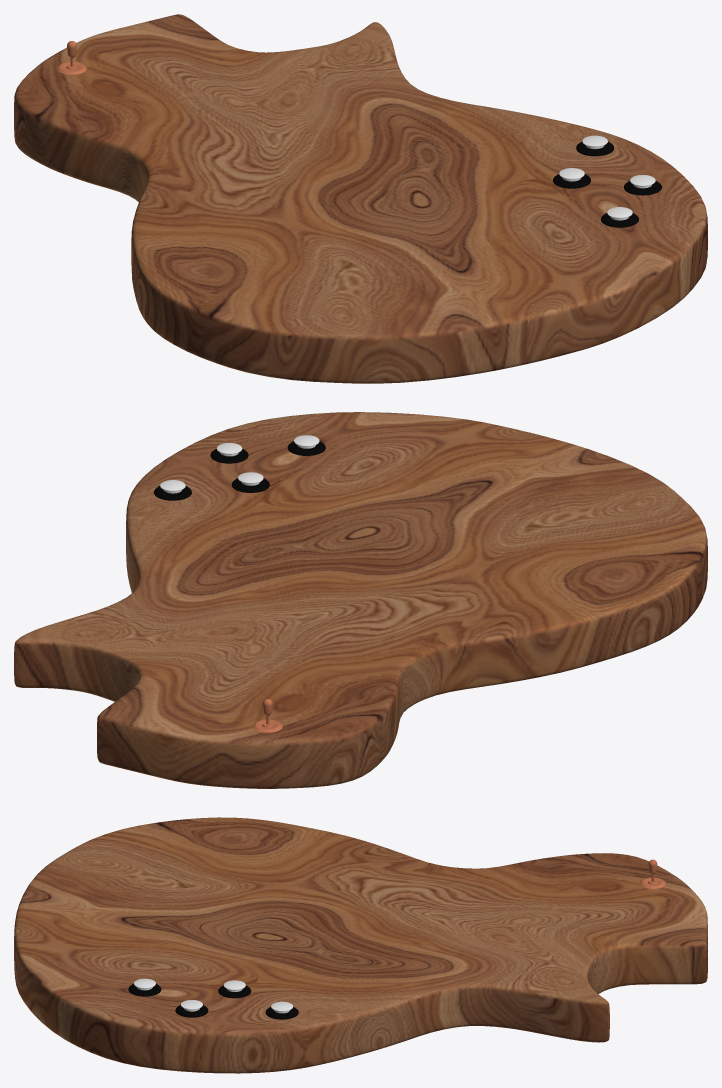
File: SingleCut_Madera.glb
The picture shows the model from 3 angles, top to bottom: view 1: azimuth 30°, elevation 25°; view 2: azimuth 150°, elevation 25°; view 3: azimuth 270°, elevation 25°; orthographic projection. The views are drawn at different scales.
Visible parts, largest first — view 1: SingleCut_Madera; view 2: SingleCut_Madera; view 3: SingleCut_Madera.
Boxes of the visible parts, x1,y1,x2,y2 form: SingleCut_Madera: [14, 14, 707, 383]; SingleCut_Madera: [14, 412, 707, 788]; SingleCut_Madera: [14, 817, 707, 1073].
Bounding box in the file's own units: 1.75 × 0.2474 × 2.36.
4 materials, 1 textured.
